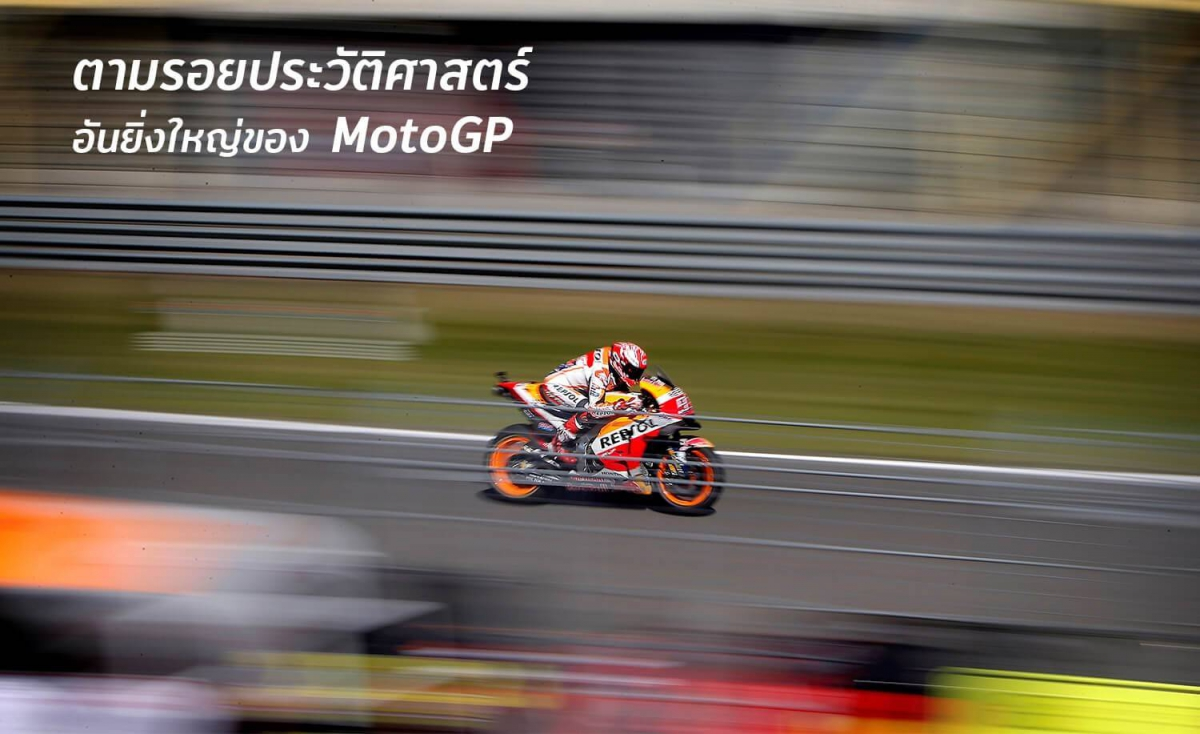helmet: (611, 332, 646, 386)
